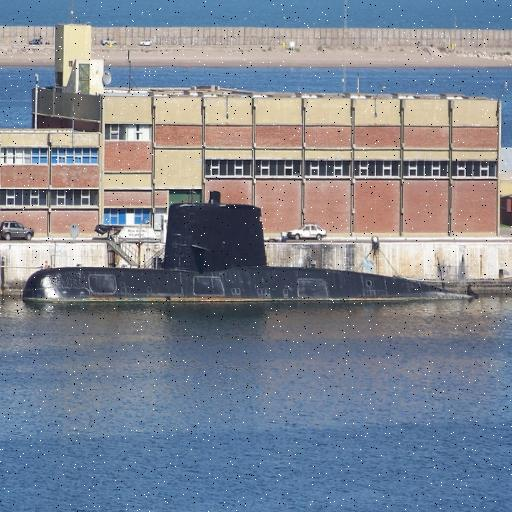submarine: (31, 206, 478, 302)
